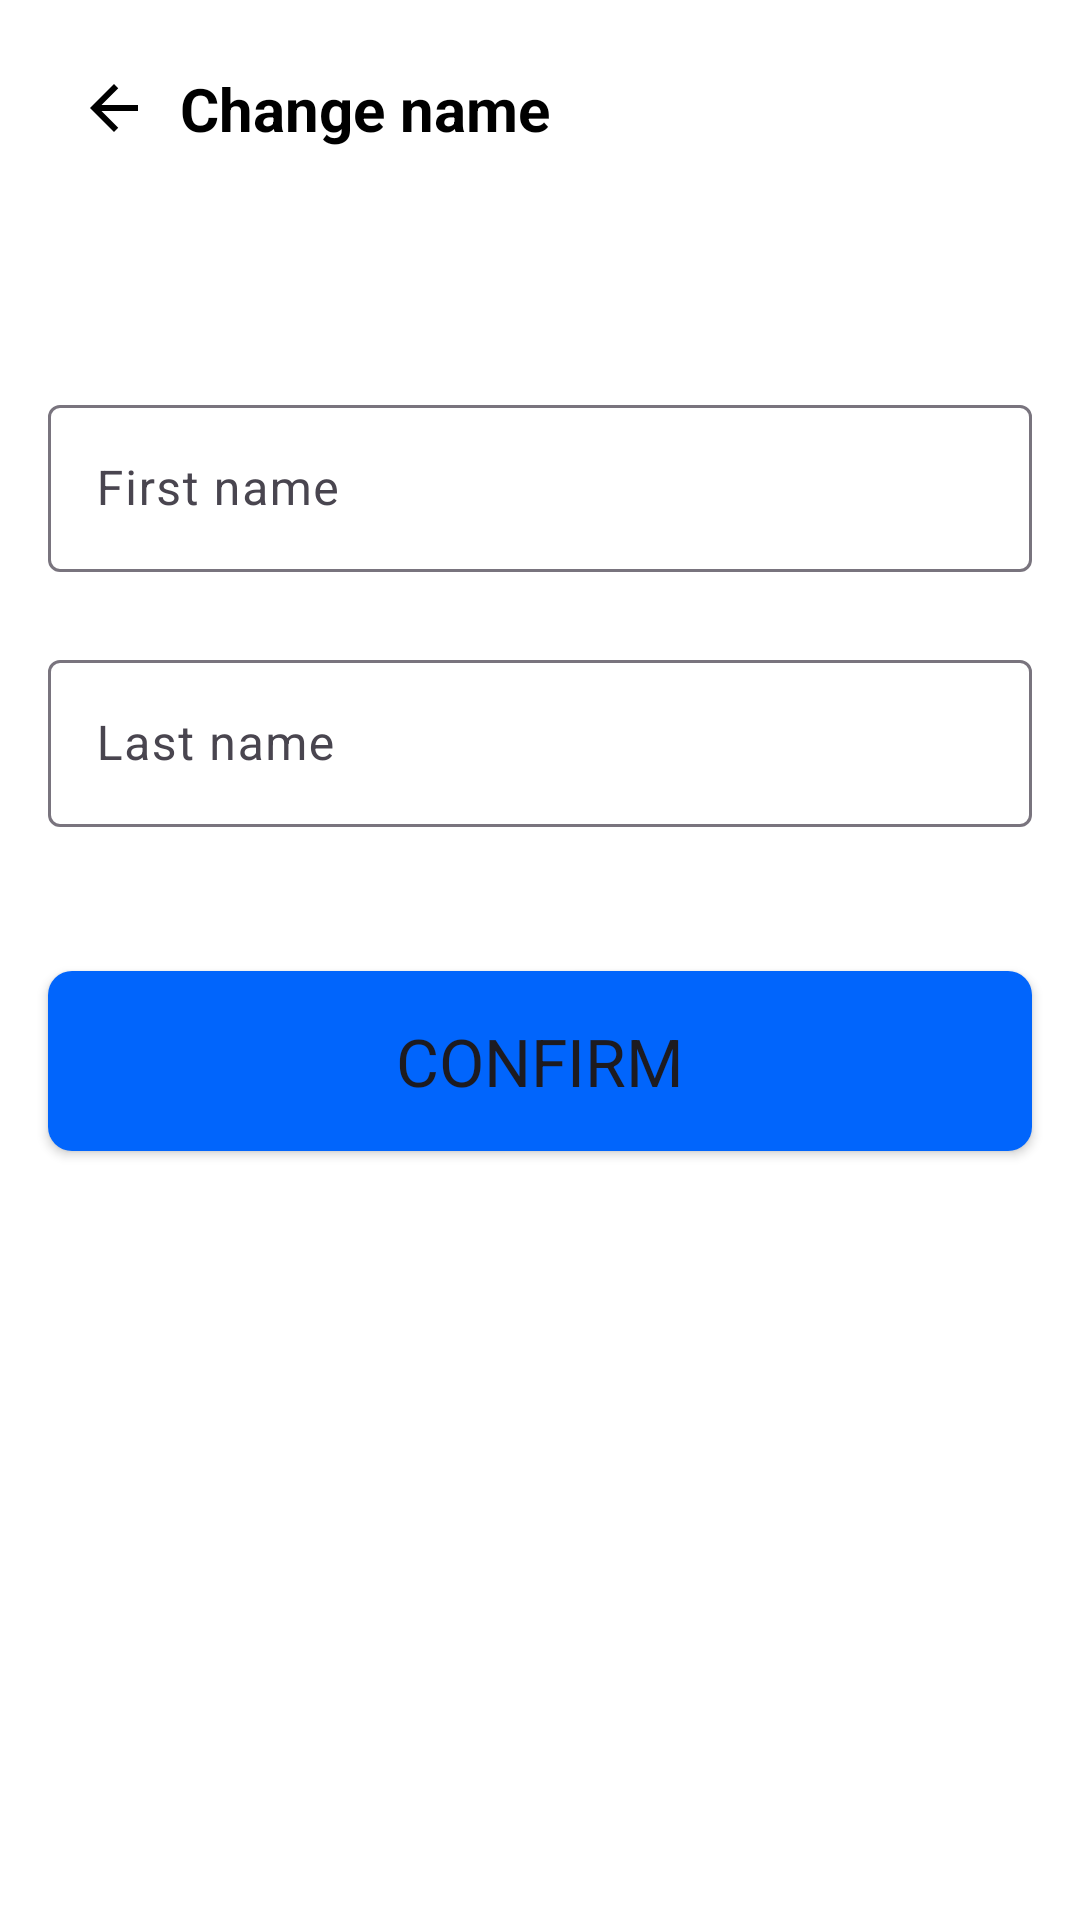

Named icons in this screenshot (1080*1920) and their bounding boxes, (x1, y1, x2, y2):
left arrow: (90, 84, 138, 132)
